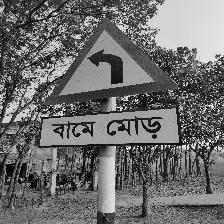Left-Turn: (39, 16, 183, 149)
